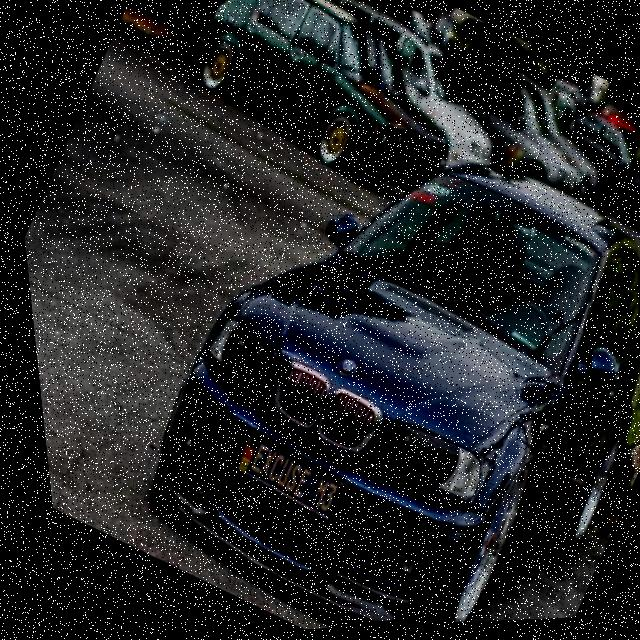license_plate: (218, 430, 340, 528)
